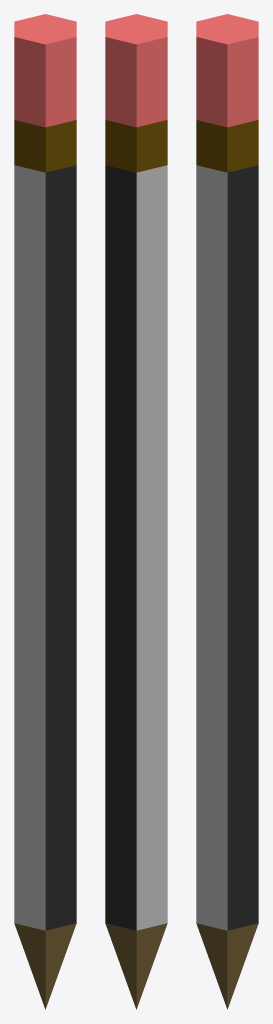
Rendered from Pencil.FBX.
3 views of the same model, side by side, from view 1: azimuth 30°, elevation 25°; view 2: azimuth 210°, elevation 25°; view 3: azimuth 270°, elevation 25° (orthographic).
Parts seen in each view (by area): view 1: pencil; view 2: pencil; view 3: pencil.
Part boxes in pixels (x1,y1,x2,y2): pencil: (14,14,76,1009); pencil: (105,14,167,1009); pencil: (196,14,258,1009).
Size of the model in its own units: 0.3937 by 5.91 by 0.341.
